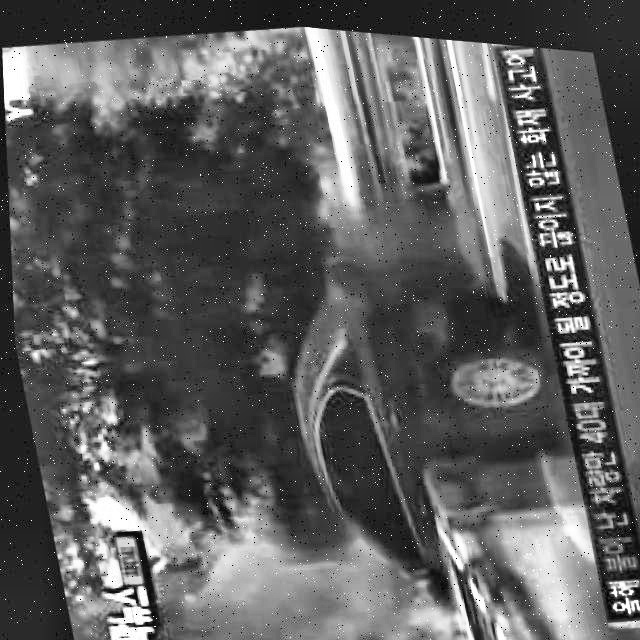Fire: (132, 493, 468, 640)
